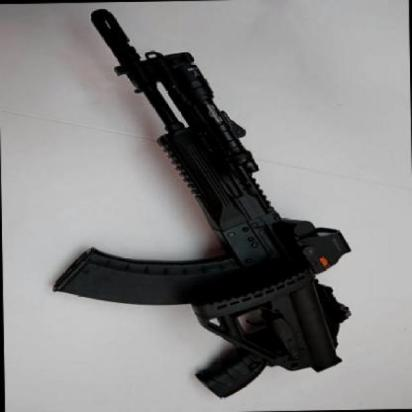Gun: (33, 3, 378, 391)
